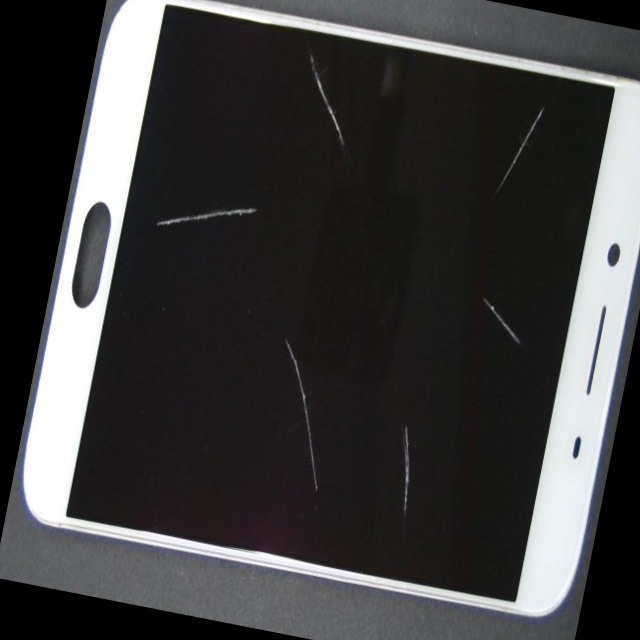scratch: (206, 231, 640, 640), (161, 243, 525, 640), (301, 165, 640, 485), (320, 0, 640, 193), (216, 74, 494, 232), (211, 67, 349, 331)
